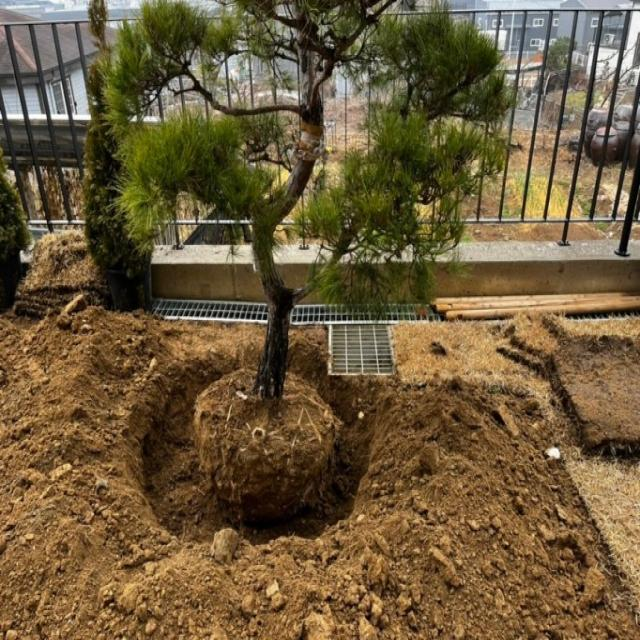plant: (100, 0, 518, 528), (81, 0, 152, 312), (0, 148, 33, 313)
